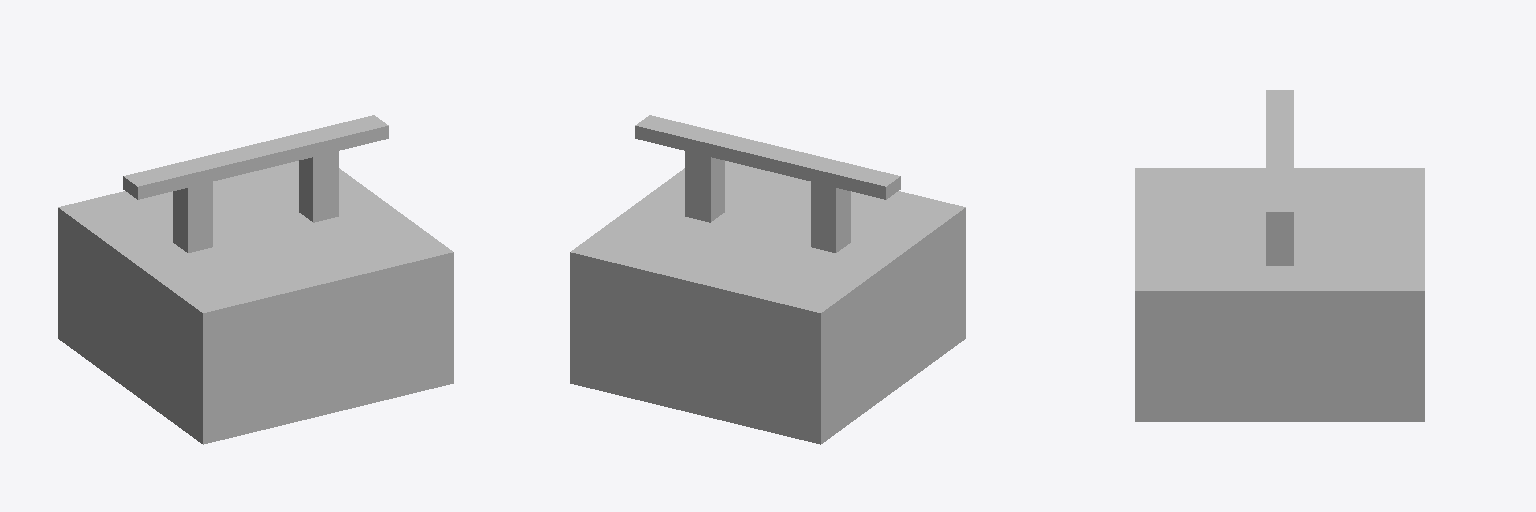
Rendered from Rail_Block_Short.obj.
3 renders of one model, left to right at view 1: azimuth 30°, elevation 25°; view 2: azimuth 150°, elevation 25°; view 3: azimuth 270°, elevation 25°, orthographic.
Parts seen in each view (by area): view 1: Rail_Block_Short; view 2: Rail_Block_Short; view 3: Rail_Block_Short.
Boxes of the visible parts, x1,y1,x2,y2 form: Rail_Block_Short: [58, 115, 453, 444]; Rail_Block_Short: [570, 115, 965, 444]; Rail_Block_Short: [1135, 90, 1424, 421].
Bounding box in the file's own units: 10 × 8 × 10.